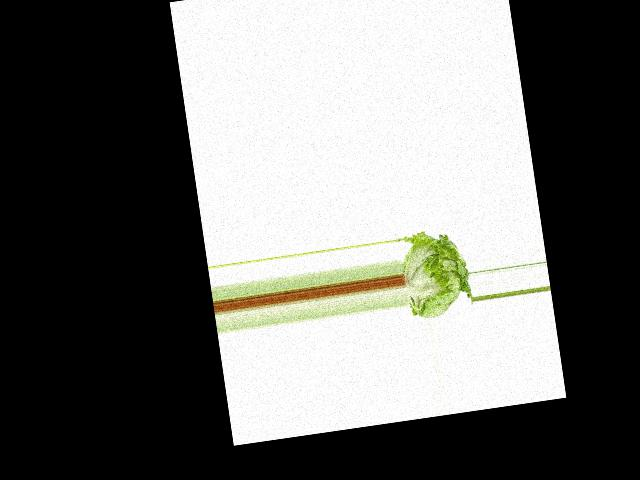lettuce: (396, 223, 474, 323)
